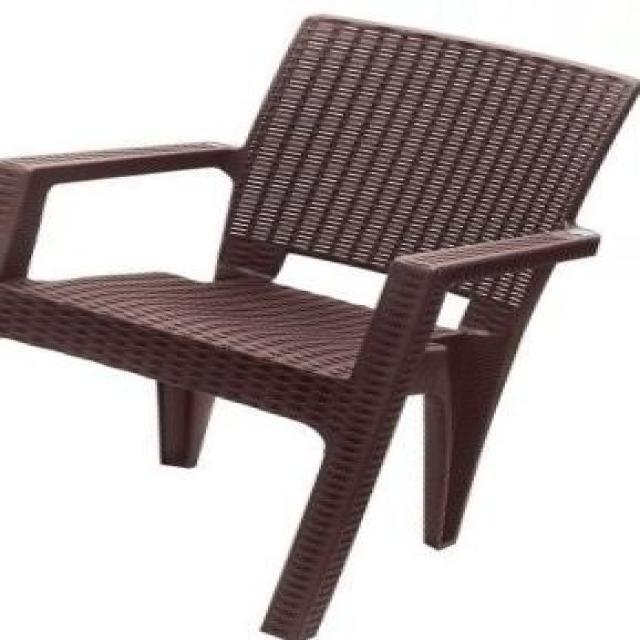chair: (2, 12, 640, 640)
